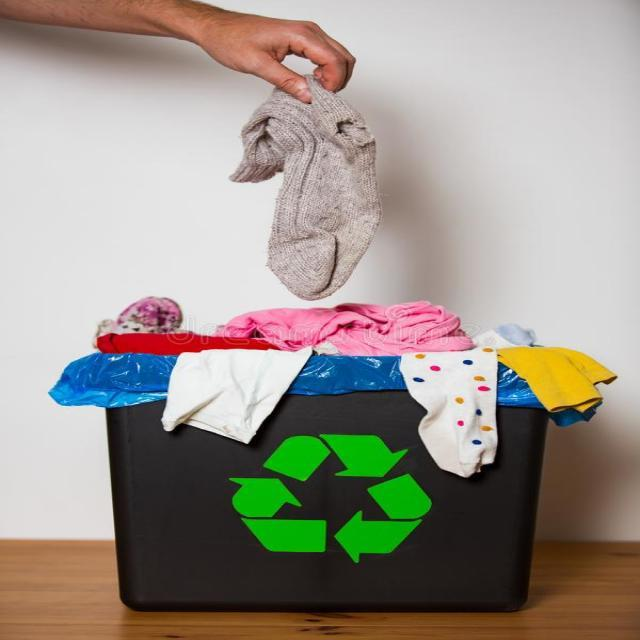clothes: (222, 138, 404, 320)
